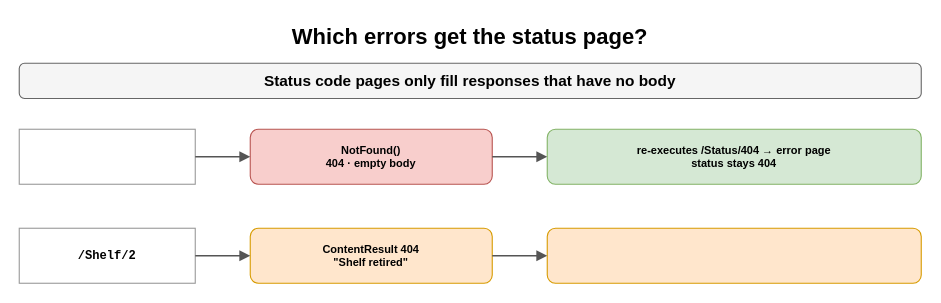
This 941x303 diagram has some shape labels left out. The shapes that lost their labels are listed below. From the top down, each one's centre as x and y in pixels, then its label:
[106,156]: /Shelf/1
[733,255]: left alone · client gets "Shelf retired" status 404
